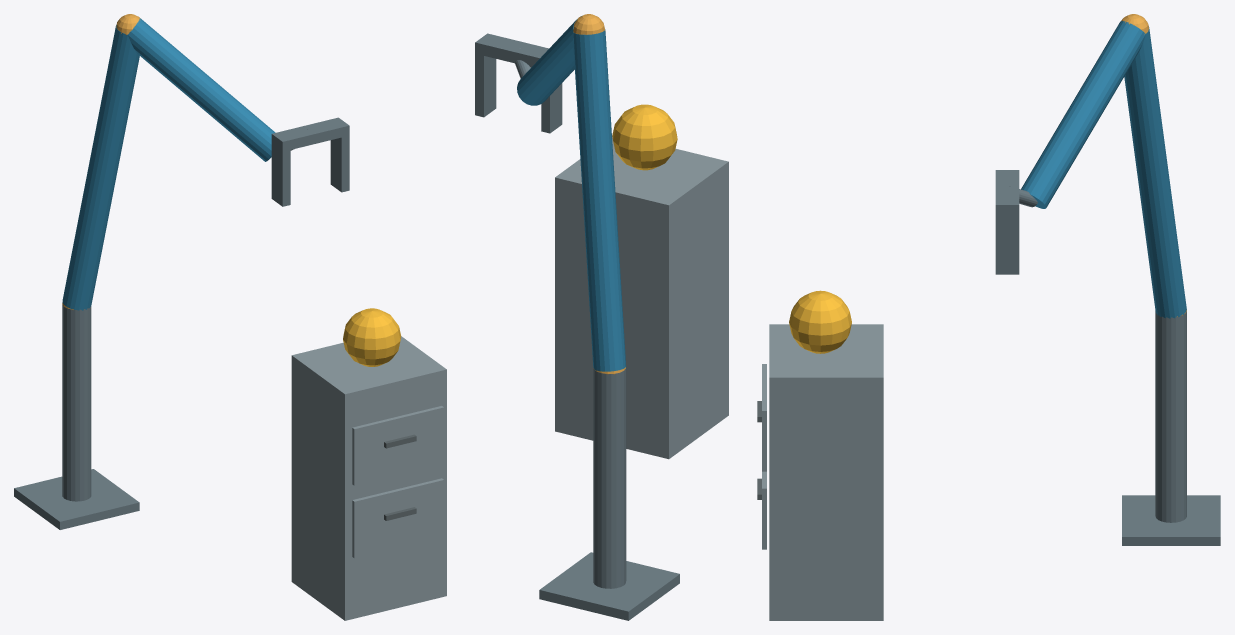
3 renders of one model, left to right at view 1: azimuth 30°, elevation 25°; view 2: azimuth 150°, elevation 25°; view 3: azimuth 270°, elevation 25°, orthographic. The views are drawn at different scales.
Visible parts, largest first — view 1: cabinet_1 body, moving link 1, fixed post, moving link 2, cabinet_1 drawer front.001, cabinet_1 drawer front, pedestal, ball ball_1, gripper bridge, gripper finger -1, gripper finger 1; view 2: cabinet_1 body, moving link 1, fixed post, pedestal, ball ball_1, moving link 2, gripper bridge, gripper finger 1, gripper finger -1, joint 2; view 3: cabinet_1 body, moving link 1, fixed post, moving link 2, pedestal, ball ball_1, gripper finger 1, gripper bridge.
Part boxes in pixels (x1,y1,x2,y2): cabinet_1 body: (291,336,446,620); moving link 1: (62,25,139,310); fixed post: (62,305,91,501); moving link 2: (128,18,275,161); cabinet_1 drawer front.001: (352,406,443,485); cabinet_1 drawer front: (352,478,443,558); pedestal: (14,469,139,529); ball ball_1: (343,308,401,366); gripper bridge: (271,117,349,151); gripper finger -1: (271,144,290,206); gripper finger 1: (330,135,349,192); cabinet_1 body: (555,136,728,459); moving link 1: (573,29,626,371); fixed post: (593,366,626,588); pedestal: (539,552,679,620); ball ball_1: (612,104,677,170); moving link 2: (517,16,581,105); gripper bridge: (475,33,548,67); gripper finger 1: (475,53,496,117); gripper finger -1: (541,83,562,133); joint 2: (573,14,605,34); cabinet_1 body: (769,324,883,620); moving link 1: (1124,27,1186,318); fixed post: (1155,311,1186,522); moving link 2: (1021,21,1145,208); pedestal: (1122,495,1220,545); ball ball_1: (789,290,851,353); gripper finger 1: (995,215,1019,274); gripper bridge: (995,170,1019,215).
Size of the model in its own units: 0.7245 by 1.48 by 1.17.
